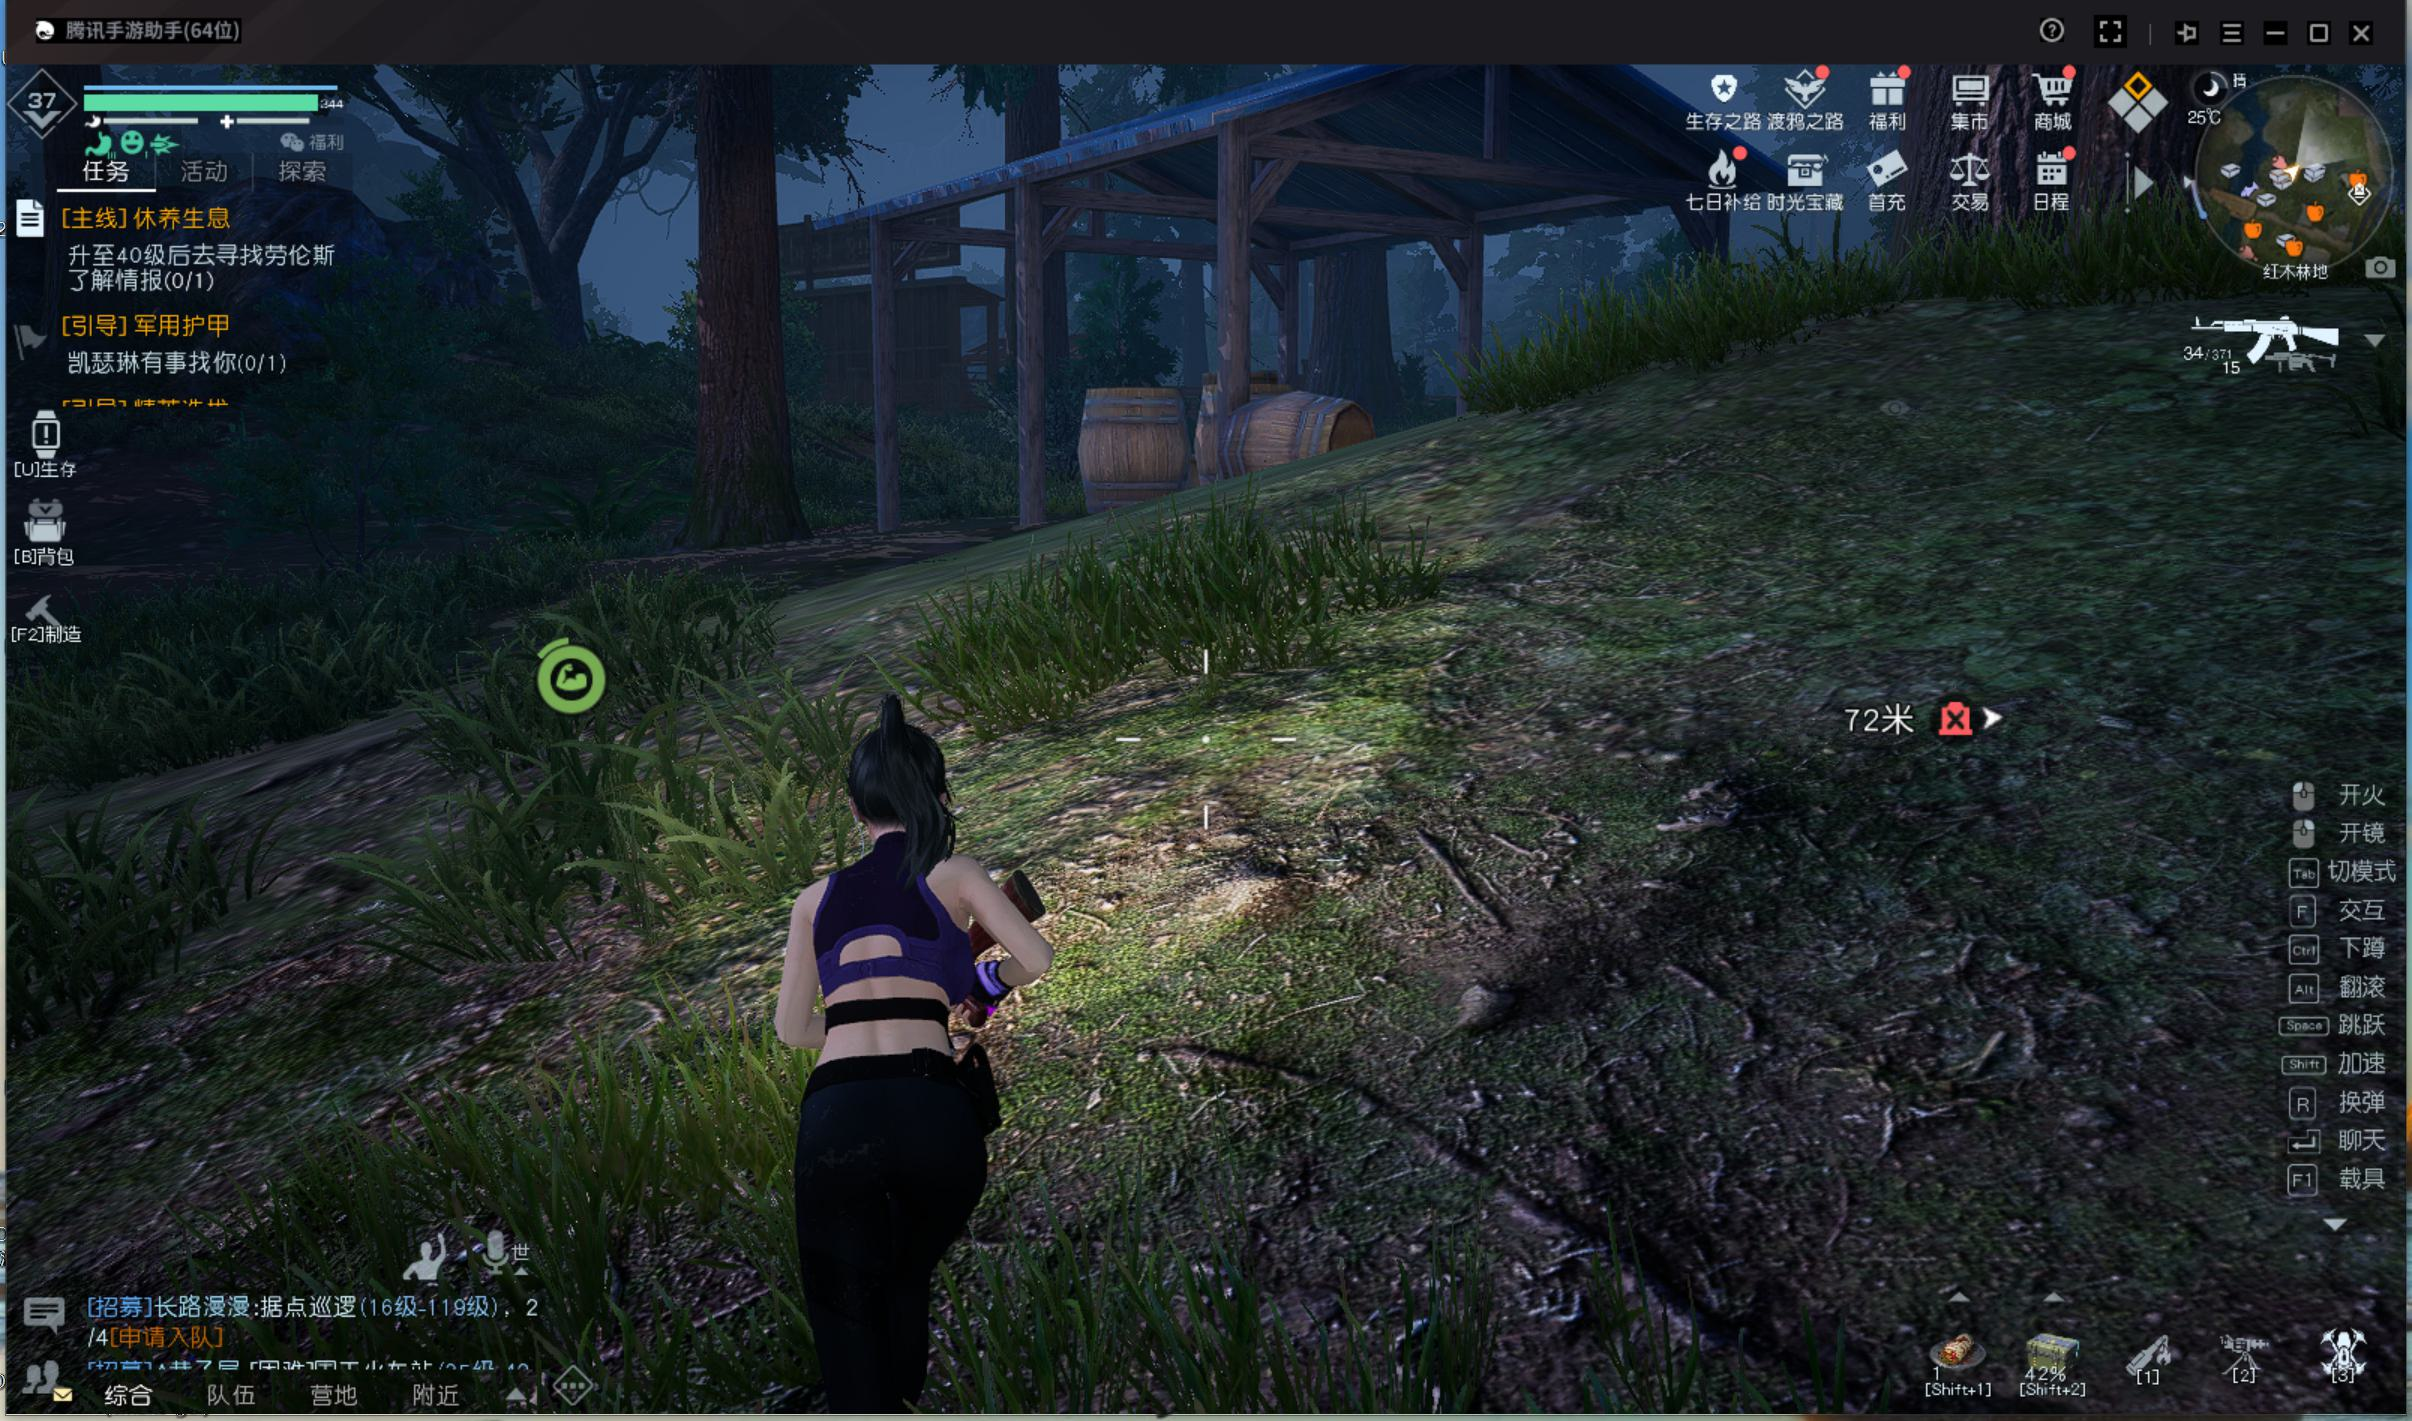tree: (673, 137, 814, 575)
